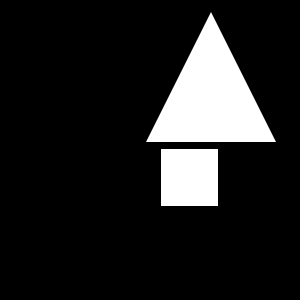circle: (161, 149, 218, 206)
triangle: (146, 12, 276, 142), (162, 35, 247, 120)
